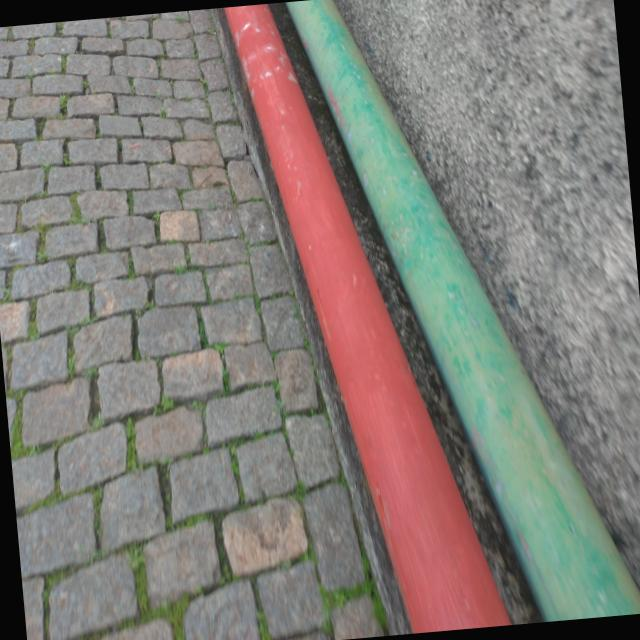gas: (288, 0, 640, 621), (223, 3, 512, 633)
